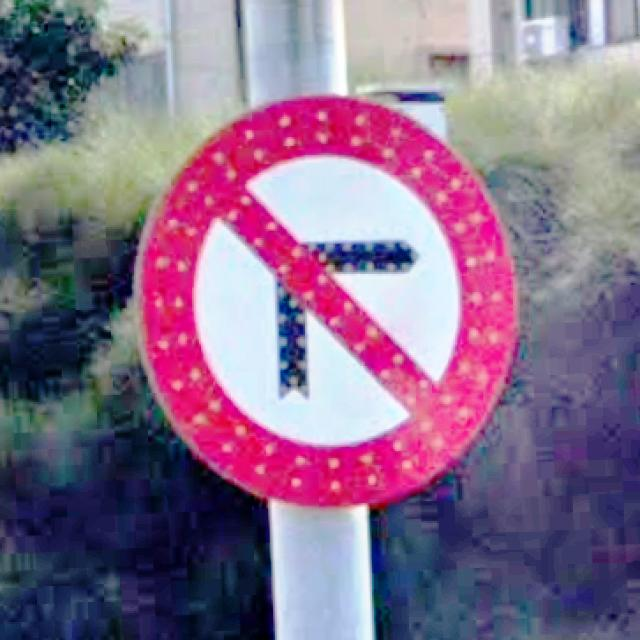noturnright: (130, 88, 522, 510)
